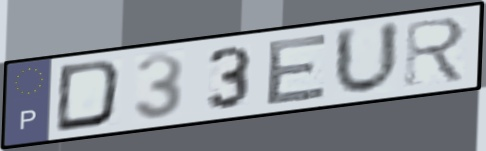3: (130, 49, 187, 124), (204, 43, 254, 111)
D: (51, 57, 125, 135)
E: (263, 30, 332, 108)
R: (402, 14, 469, 89)
U: (331, 18, 403, 98)
